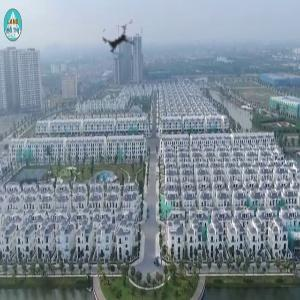drone: (87, 6, 152, 71)
